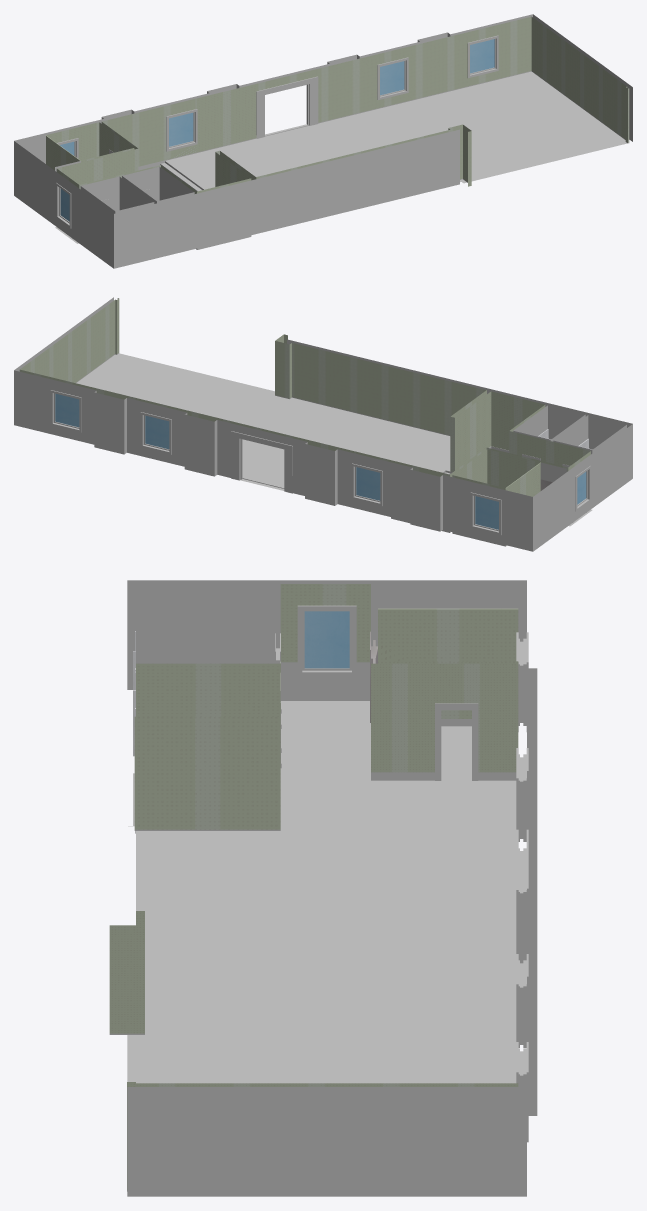
File: FloorFirst_A.fbx
3 renders of one model, top to bottom at view 1: azimuth 30°, elevation 25°; view 2: azimuth 150°, elevation 25°; view 3: azimuth 270°, elevation 25°, orthographic. The views are drawn at different scales.
Parts seen in each view (by area): view 1: Floor_00_A (3); view 2: Floor_00_A (3); view 3: Floor_00_A (3).
Part boxes in pixels (x1,y1,x2,y2): Floor_00_A (3): (14,14,632,268); Floor_00_A (3): (14,297,632,551); Floor_00_A (3): (109,580,537,1196).
Bounding box in the file's own units: 3452 × 377 × 1231.
